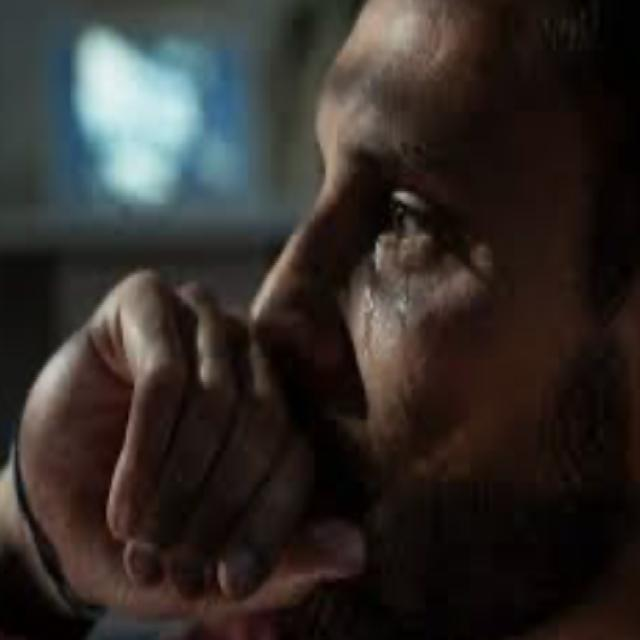sad: (206, 0, 629, 640)
